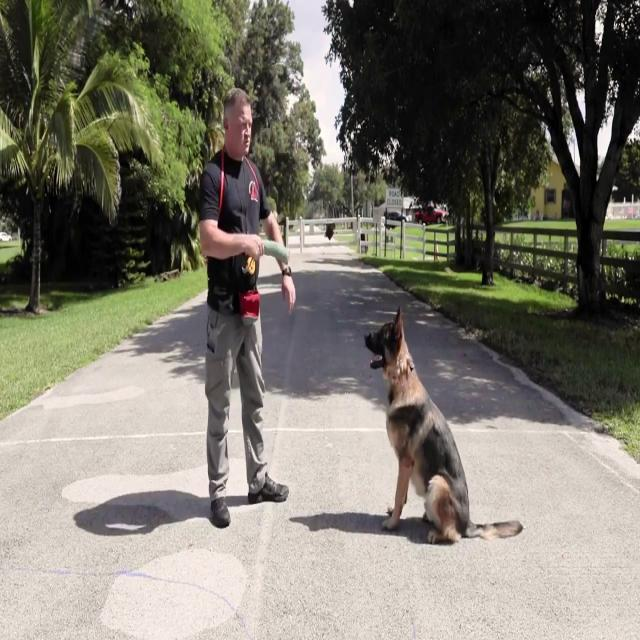Unleashed_Dog: (205, 302, 524, 546)
